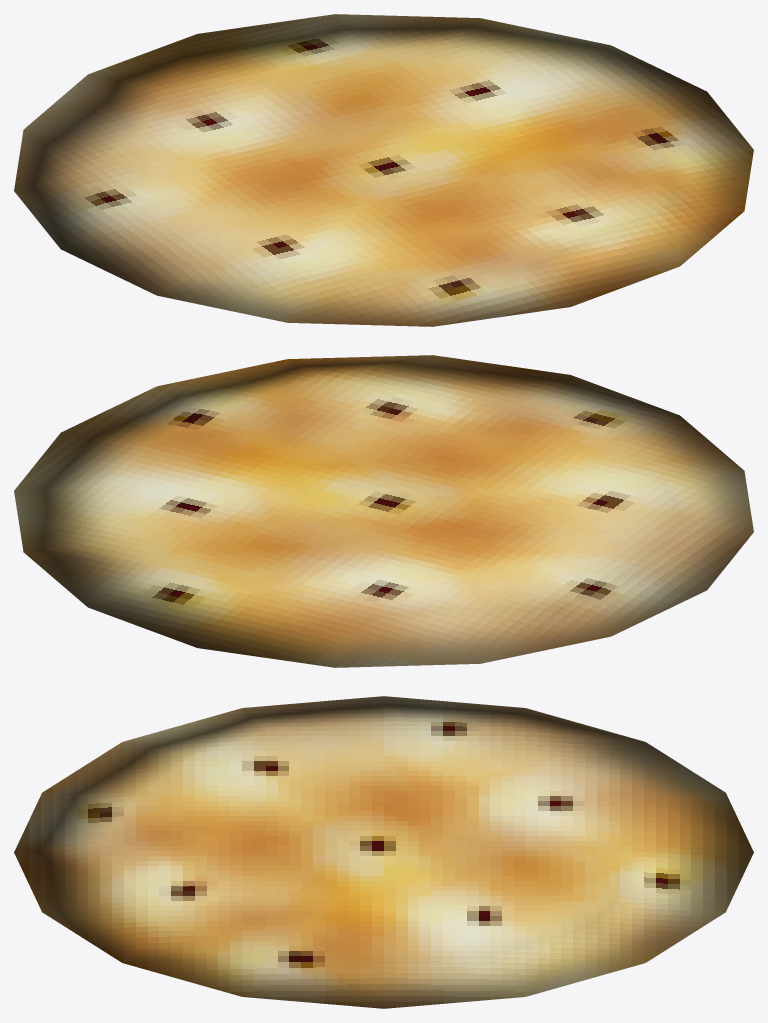
The model's file is Cracker.fbx.
The picture shows the model from 3 angles, top to bottom: view 1: azimuth 30°, elevation 25°; view 2: azimuth 150°, elevation 25°; view 3: azimuth 270°, elevation 25°; orthographic projection.
Parts seen in each view (by area): view 1: Circle; view 2: Circle; view 3: Circle.
Part boxes in pixels (left/top/right/bottom): Circle: left=14, top=14, right=753, bottom=326; Circle: left=14, top=355, right=753, bottom=667; Circle: left=14, top=696, right=753, bottom=1008.
Bounding box in the file's own units: 167 × 3.12 × 167.
1 material, 1 textured.
